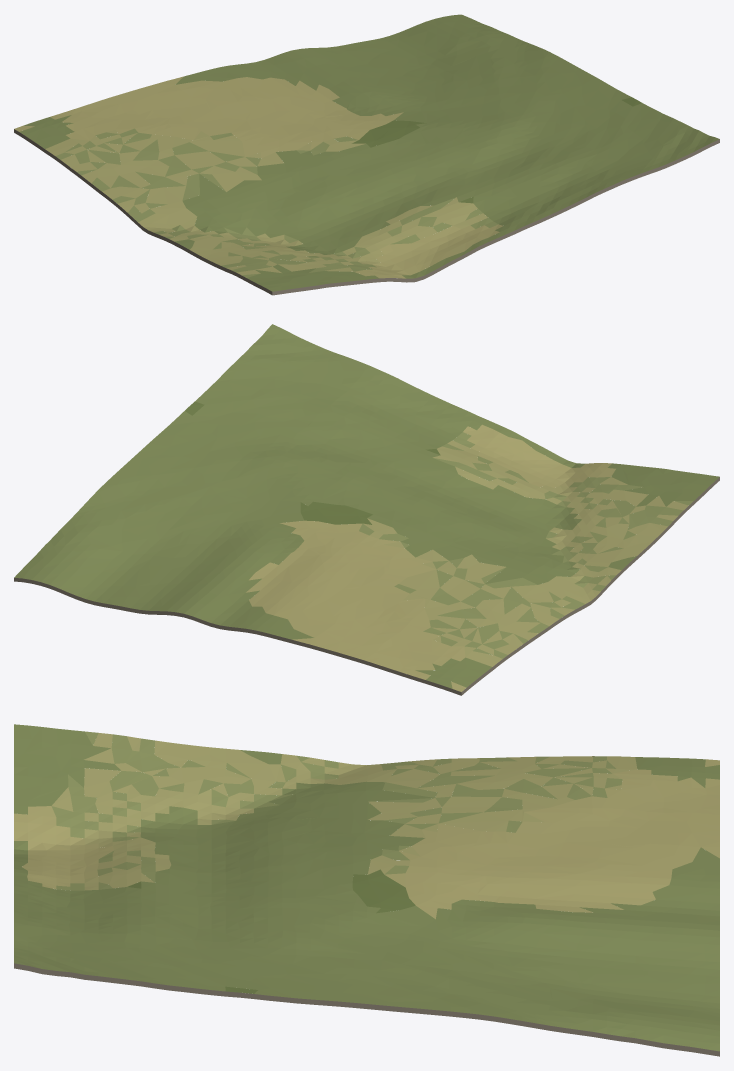
Rendered from parca_+2_-5-uzak.glb.
3 views of the same model, one above another, from view 1: azimuth 30°, elevation 25°; view 2: azimuth 150°, elevation 25°; view 3: azimuth 270°, elevation 25° (orthographic). The views are drawn at different scales.
Visible parts, largest first — view 1: parca_+2_-5_arazi_uzak; view 2: parca_+2_-5_arazi_uzak; view 3: parca_+2_-5_arazi_uzak.
Part boxes in pixels (<box>): parca_+2_-5_arazi_uzak: <box>14,14,719,295</box>; parca_+2_-5_arazi_uzak: <box>14,324,719,695</box>; parca_+2_-5_arazi_uzak: <box>14,724,719,1056</box>.
Bounding box in the file's own units: 1000 × 165 × 1000.
